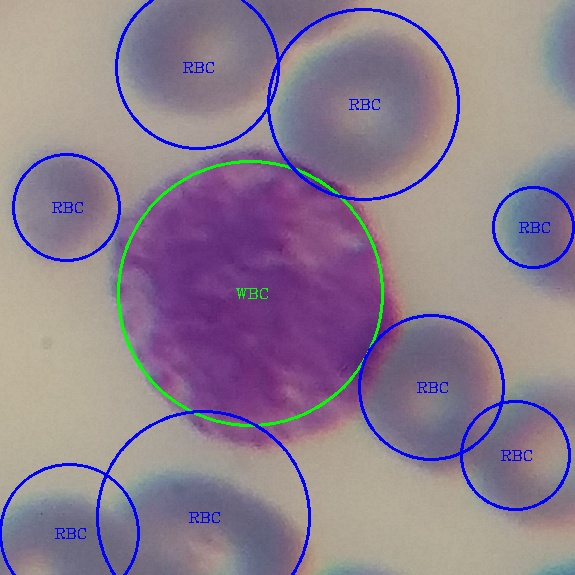RBC: (276, 23, 456, 199), (364, 305, 509, 471), (108, 1, 291, 126), (113, 467, 318, 574), (456, 375, 573, 540), (502, 137, 573, 311), (11, 150, 121, 258)
WBC: (108, 144, 410, 442)
